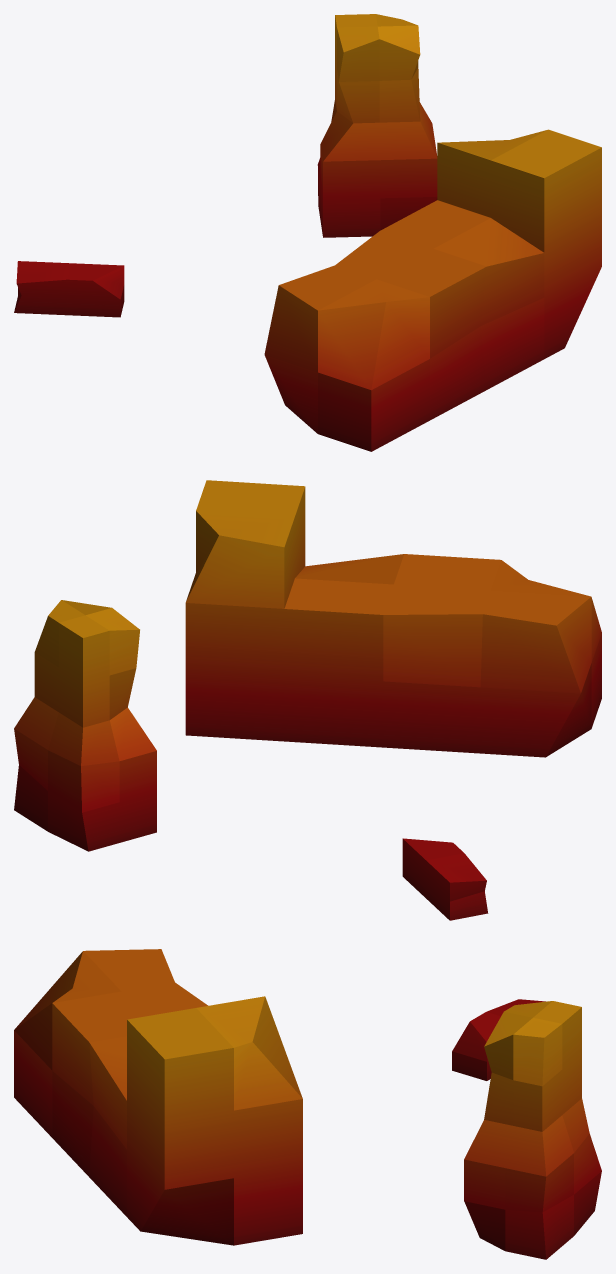
The model's file is ruins_11.fbx.
The picture shows the model from 3 angles, top to bottom: view 1: azimuth 30°, elevation 25°; view 2: azimuth 150°, elevation 25°; view 3: azimuth 270°, elevation 25°; orthographic projection. The views are drawn at different scales.
Parts seen in each view (by area): view 1: ruins_11; view 2: ruins_11; view 3: ruins_11.
Boxes of the visible parts, box(x1,y1,x2,y2) form: ruins_11: box(14, 14, 601, 451); ruins_11: box(14, 480, 601, 920); ruins_11: box(14, 949, 601, 1259).
Size of the model in its own units: 171 by 72.96 by 185.
